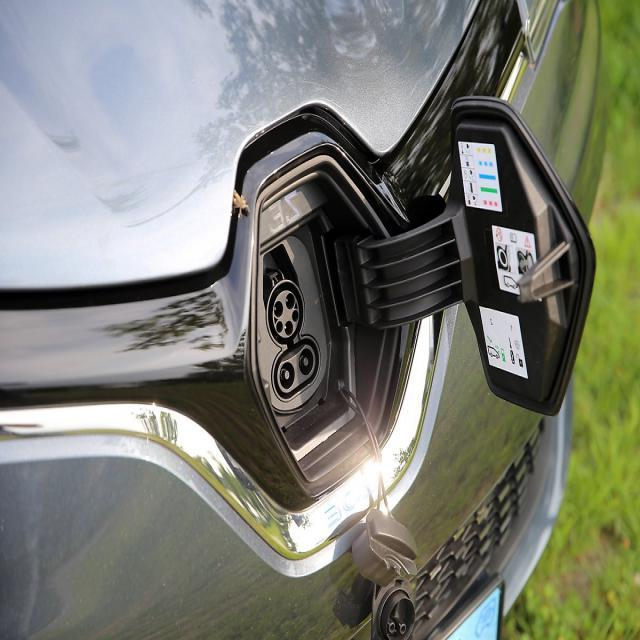CCS1: (240, 252, 338, 446)
